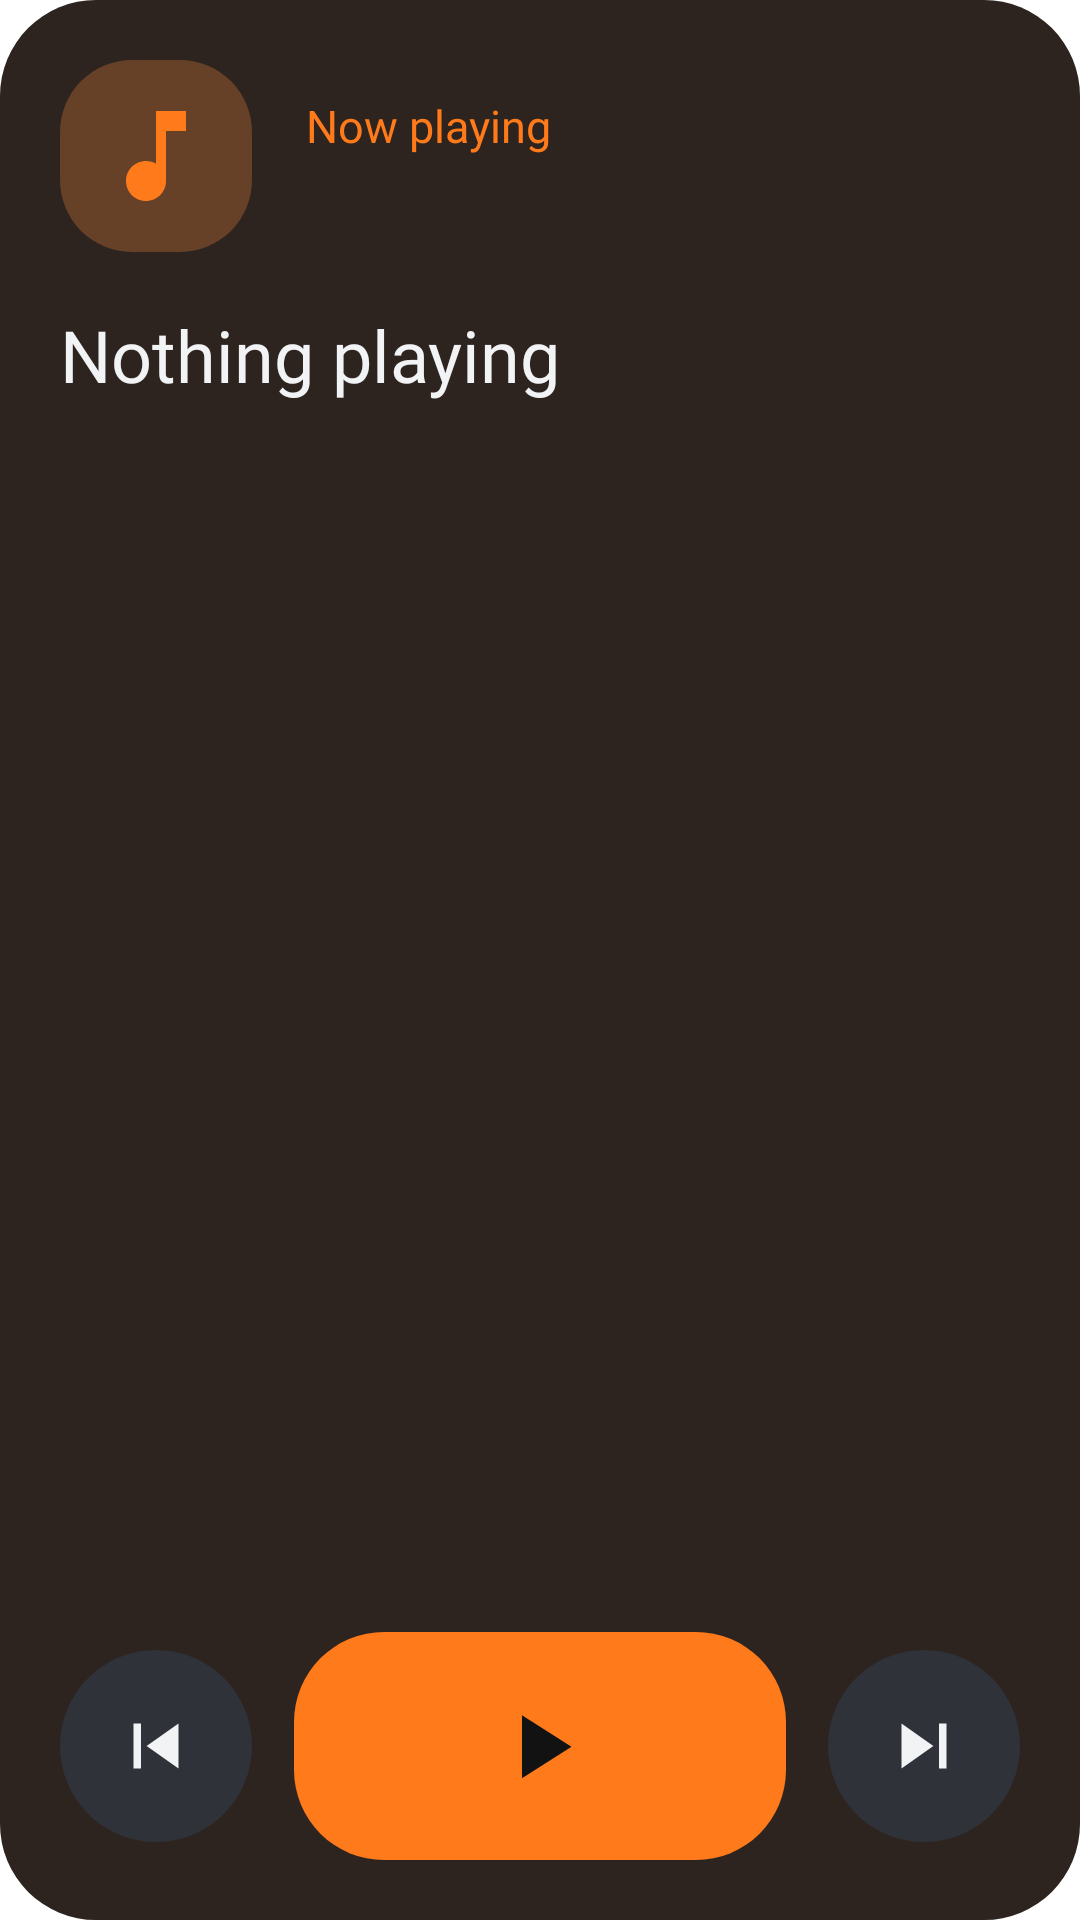

Locate icon controls on the screen. Image size 1080×1920, boxes as {"left": x1, "top": y1, "right": x2, "bottom": y2}.
next: {"left": 901, "top": 1723, "right": 947, "bottom": 1769}
note: {"left": 126, "top": 111, "right": 186, "bottom": 201}
play: {"left": 522, "top": 1715, "right": 572, "bottom": 1778}
prev: {"left": 133, "top": 1723, "right": 179, "bottom": 1769}
